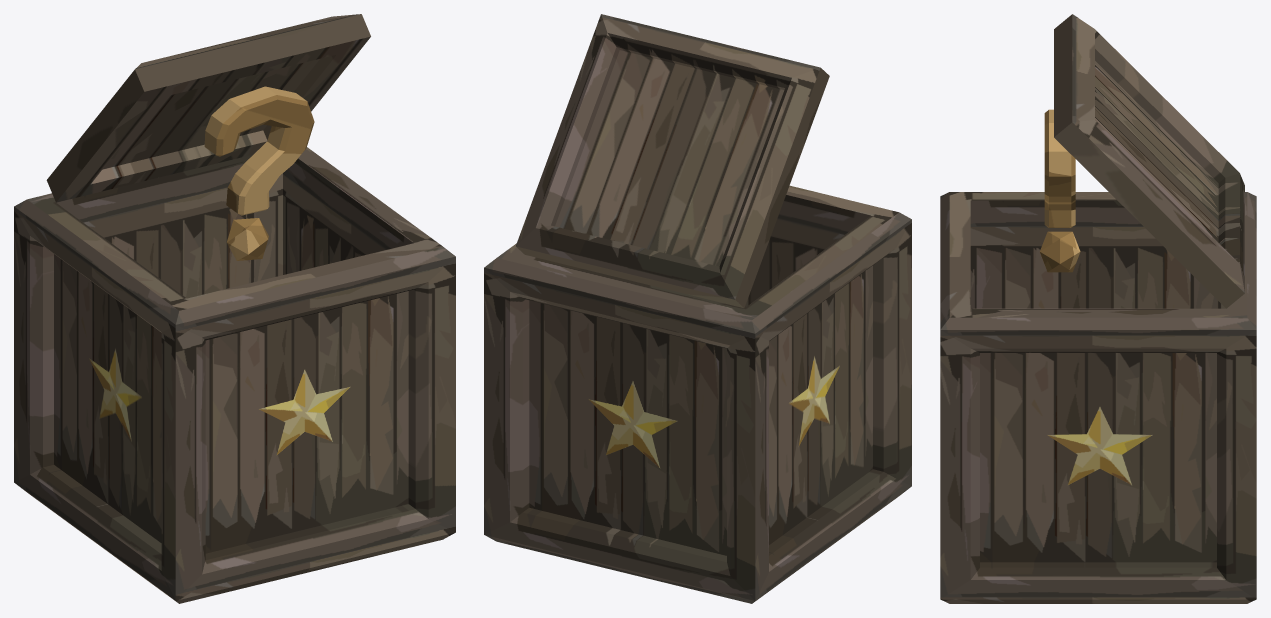
3 views of the same model, side by side, from view 1: azimuth 30°, elevation 25°; view 2: azimuth 150°, elevation 25°; view 3: azimuth 270°, elevation 25° (orthographic). The views are drawn at different scales.
Visible parts, largest first — view 1: Cube, Cube.001, Grid, Icosphere; view 2: Cube, Cube.001; view 3: Cube, Cube.001, Grid, Icosphere.
Part boxes in pixels (x1,y1,x2,y2): Cube: [14, 147, 455, 603]; Cube.001: [46, 14, 370, 202]; Grid: [204, 86, 314, 215]; Icosphere: [227, 218, 268, 260]; Cube: [484, 185, 911, 603]; Cube.001: [516, 14, 829, 307]; Cube: [940, 192, 1256, 603]; Cube.001: [1054, 14, 1244, 308]; Grid: [1044, 109, 1075, 227]; Icosphere: [1040, 231, 1080, 272].
Size of the model in its own units: 115 by 190 by 115.
3 materials, 3 textured.
